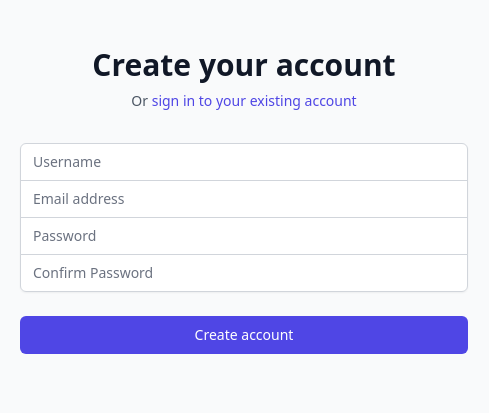
Test: Authentication Tests › Registration Functionality › should show error with mismatched passwords
In the field named "username": (244, 162) 20,143 -> 468,181, type "testuser"
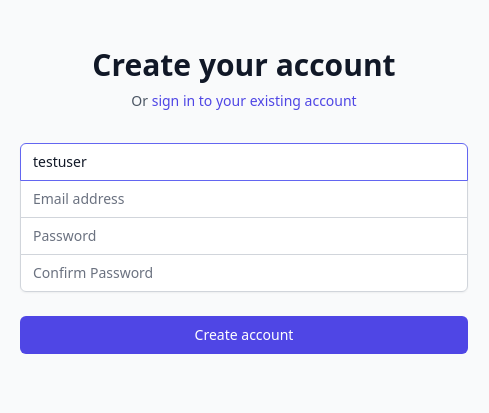
In the field named "email": (244, 199) 20,180 -> 468,218, type "test@example.com"
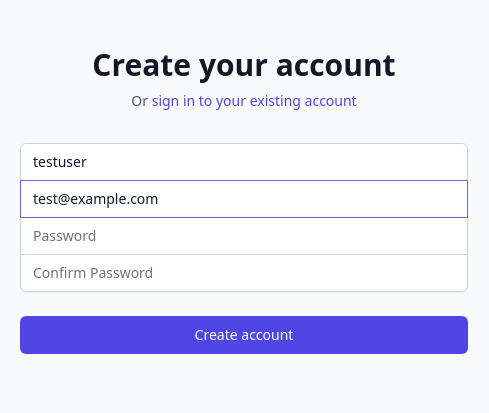
In the password field named "password": (244, 236) 20,217 -> 468,255, type "password123"
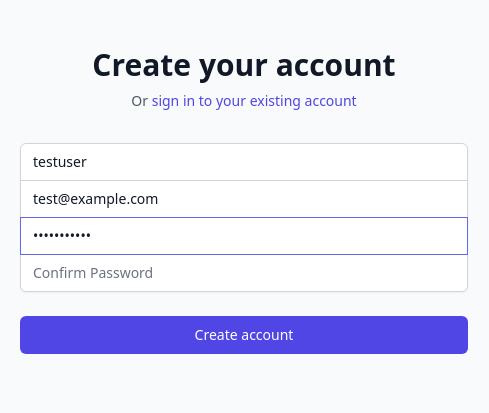
In the password field named "confirmPassword": (244, 273) 20,254 -> 468,292, type "differentpassword"
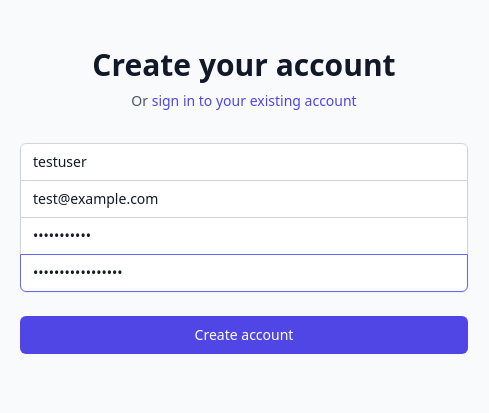
Click the button with test id "register-button": (244, 335) 20,316 -> 468,354
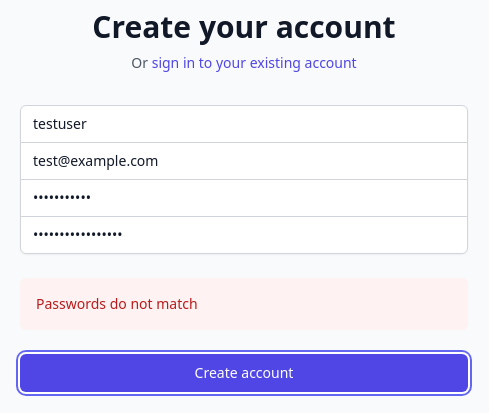
Expected: the element showing "Passwords do not match" is shown, 20,278 -> 468,330
Expected: the text "Passwords do not match" is shown, 36,294 -> 198,312
